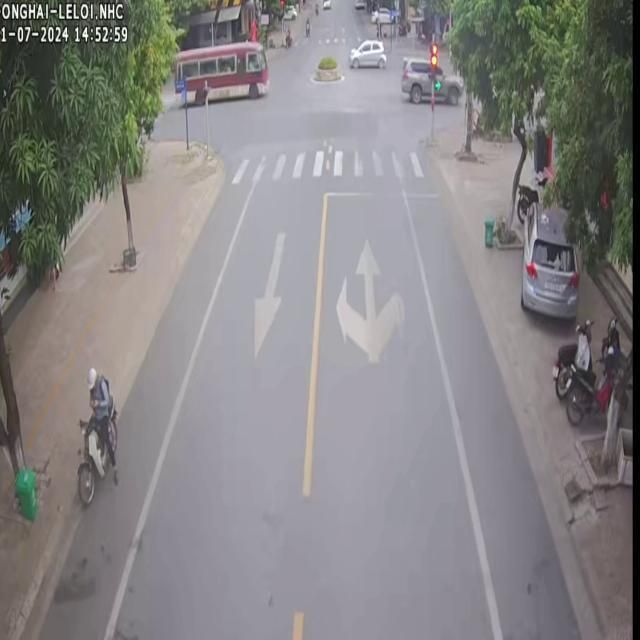car: (519, 200, 577, 316), (174, 40, 267, 102), (399, 56, 429, 102), (347, 38, 384, 67), (433, 65, 462, 102)
motobike: (76, 365, 117, 502), (564, 351, 618, 422), (552, 318, 593, 398)
red_light: (430, 44, 437, 78)
stop_line: (327, 189, 438, 195)
